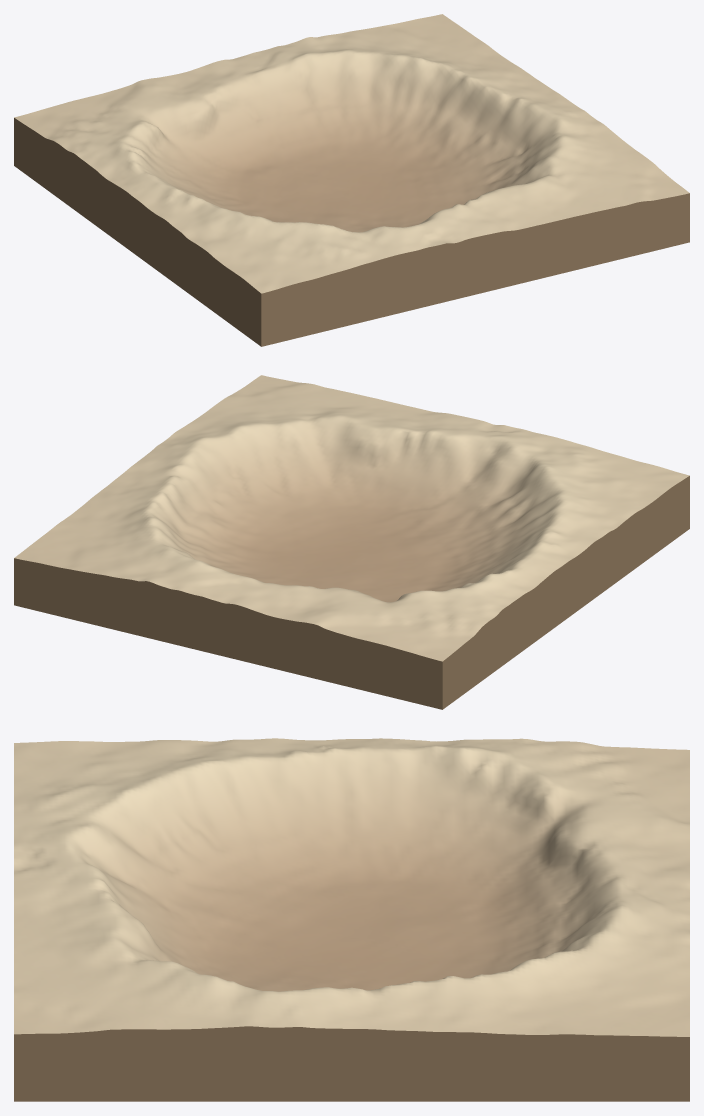
File: earth3d-meteor-crater.glb
3 views of the same model, one above another, from view 1: azimuth 30°, elevation 25°; view 2: azimuth 150°, elevation 25°; view 3: azimuth 270°, elevation 25° (orthographic). The views are drawn at different scales.
Visible parts, largest first — view 1: Measured terrain with true relief, Opaque cropped terrain walls; view 2: Measured terrain with true relief, Opaque cropped terrain walls; view 3: Measured terrain with true relief, Opaque cropped terrain walls.
Boxes of the visible parts, left/top/right/bottom form: Measured terrain with true relief: left=14, top=14, right=689, bottom=293; Opaque cropped terrain walls: left=14, top=118, right=689, bottom=346; Measured terrain with true relief: left=14, top=375, right=689, bottom=661; Opaque cropped terrain walls: left=14, top=476, right=689, bottom=709; Measured terrain with true relief: left=14, top=738, right=689, bottom=1036; Opaque cropped terrain walls: left=14, top=1026, right=689, bottom=1101.
Bounding box in the file's own units: 1440 × 217 × 1440.
